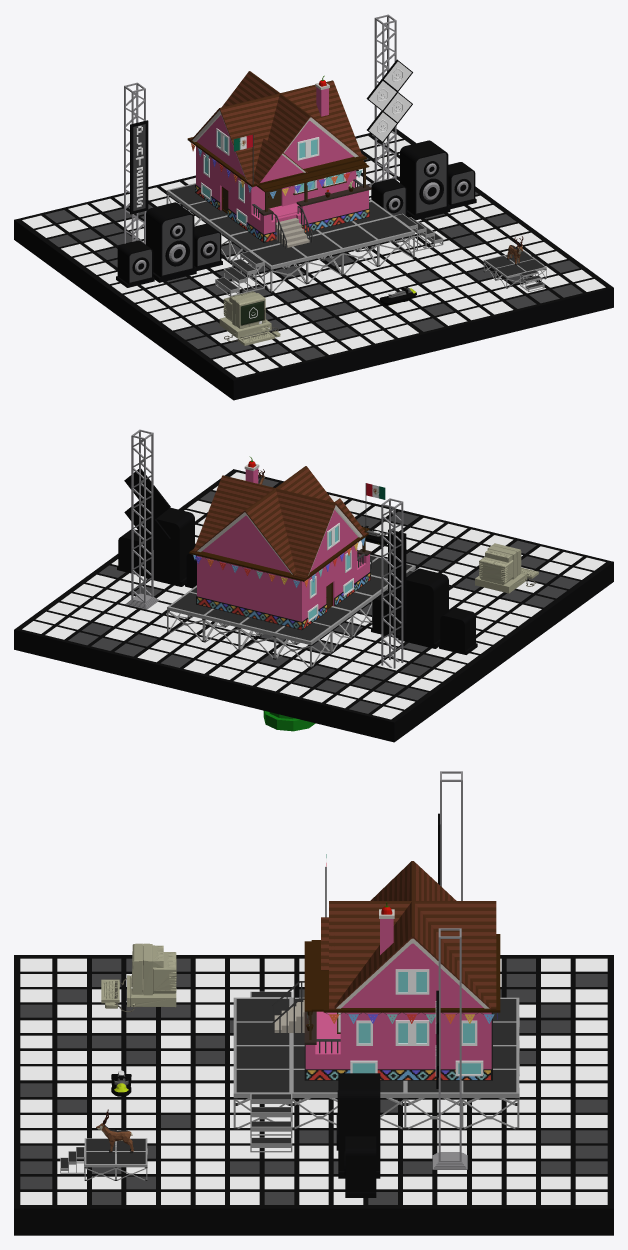
3 renders of one model, top to bottom at view 1: azimuth 30°, elevation 25°; view 2: azimuth 150°, elevation 25°; view 3: azimuth 270°, elevation 25°, orthographic. The views are drawn at different scales.
Parts seen in each view (by area): view 1: Cube.008, Cube.1005, OBJRANDOM_RETRO_PC; view 2: Cube.008, Cube.1005, OBJRANDOM_RETRO_PC, UNDERGROUND_PIPES; view 3: Cube.008, Cube.1005, OBJRANDOM_RETRO_PC.
Boxes of the visible parts, box(x1,y1,x2,y2) form: Cube.008: box(14, 14, 613, 400); Cube.1005: box(187, 71, 371, 248); OBJRANDOM_RETRO_PC: box(219, 291, 280, 345); Cube.008: box(14, 429, 613, 742); Cube.1005: box(189, 456, 385, 630); OBJRANDOM_RETRO_PC: box(475, 543, 538, 593); UNDERGROUND_PIPES: box(263, 711, 315, 731); Cube.008: box(14, 771, 613, 1235); Cube.1005: box(272, 854, 500, 1080); OBJRANDOM_RETRO_PC: box(101, 943, 176, 1011).
Size of the model in its own units: 4000 by 2555 by 4000.
Materials: 69 (3 with a texture image).
